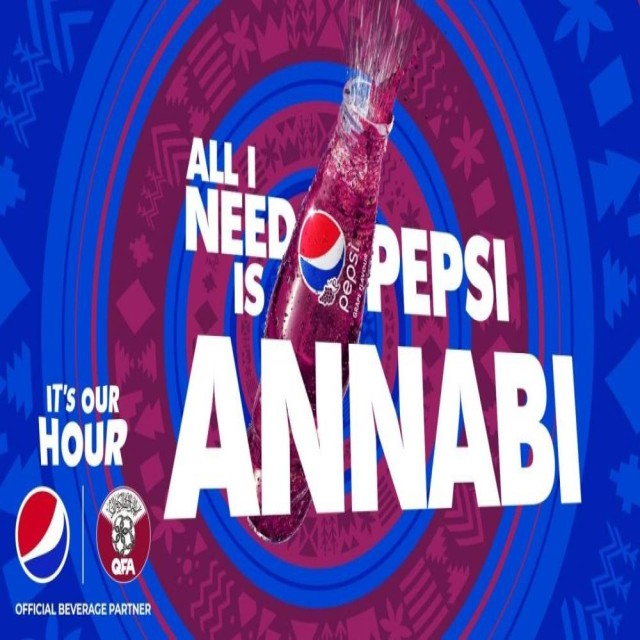pepsi: (15, 485, 73, 582), (296, 210, 345, 295)
